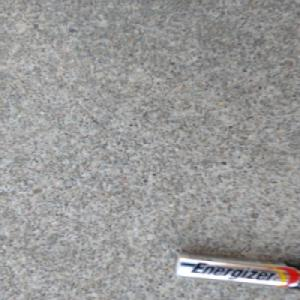Battery: (169, 251, 299, 291)
